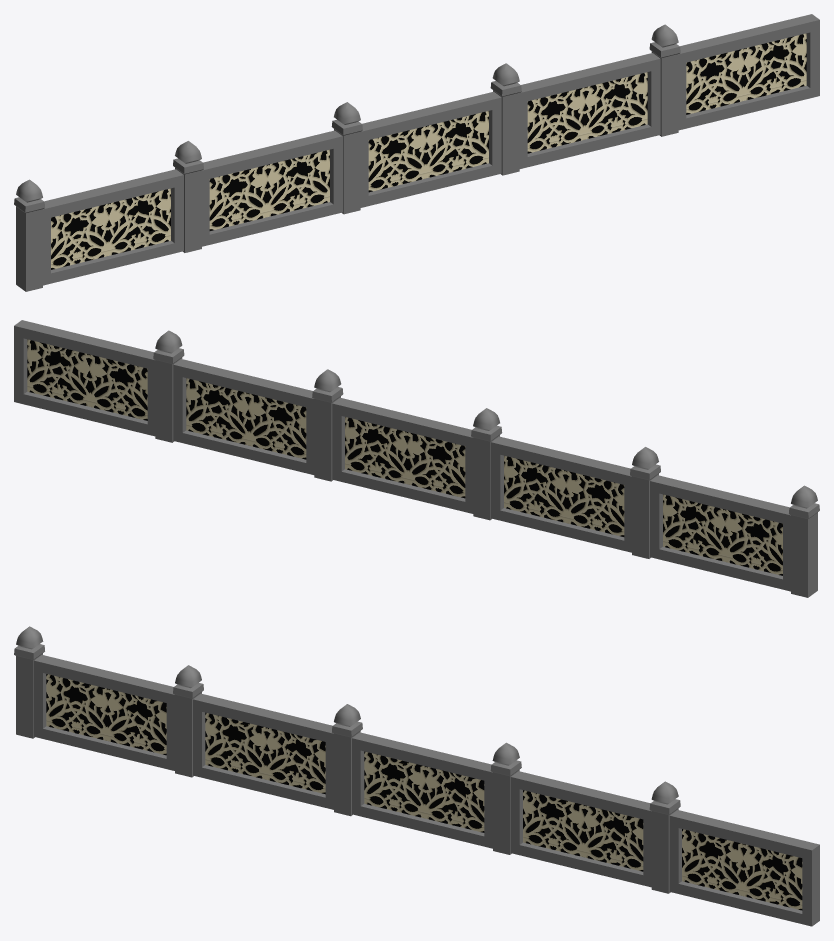
The model's file is SM_railing_03.fbx.
The picture shows the model from 3 angles, top to bottom: view 1: azimuth 30°, elevation 25°; view 2: azimuth 150°, elevation 25°; view 3: azimuth 330°, elevation 25°; orthographic projection.
Parts seen in each view (by area): view 1: Object32916; view 2: Object32916; view 3: Object32916.
Boxes of the visible parts, x1=… form: Object32916: x1=14, y1=14, x2=819, y2=291; Object32916: x1=14, y1=320, x2=819, y2=597; Object32916: x1=14, y1=626, x2=819, y2=926.
Size of the model in its own units: 374 by 47.8 by 9.28.
